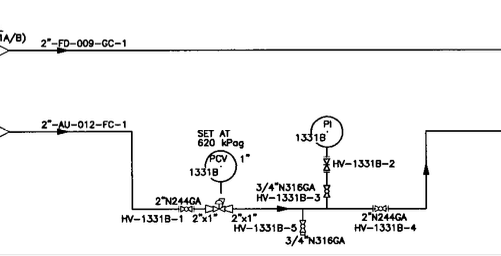Instrument-offset: (293, 108, 345, 153), (187, 149, 239, 185)
